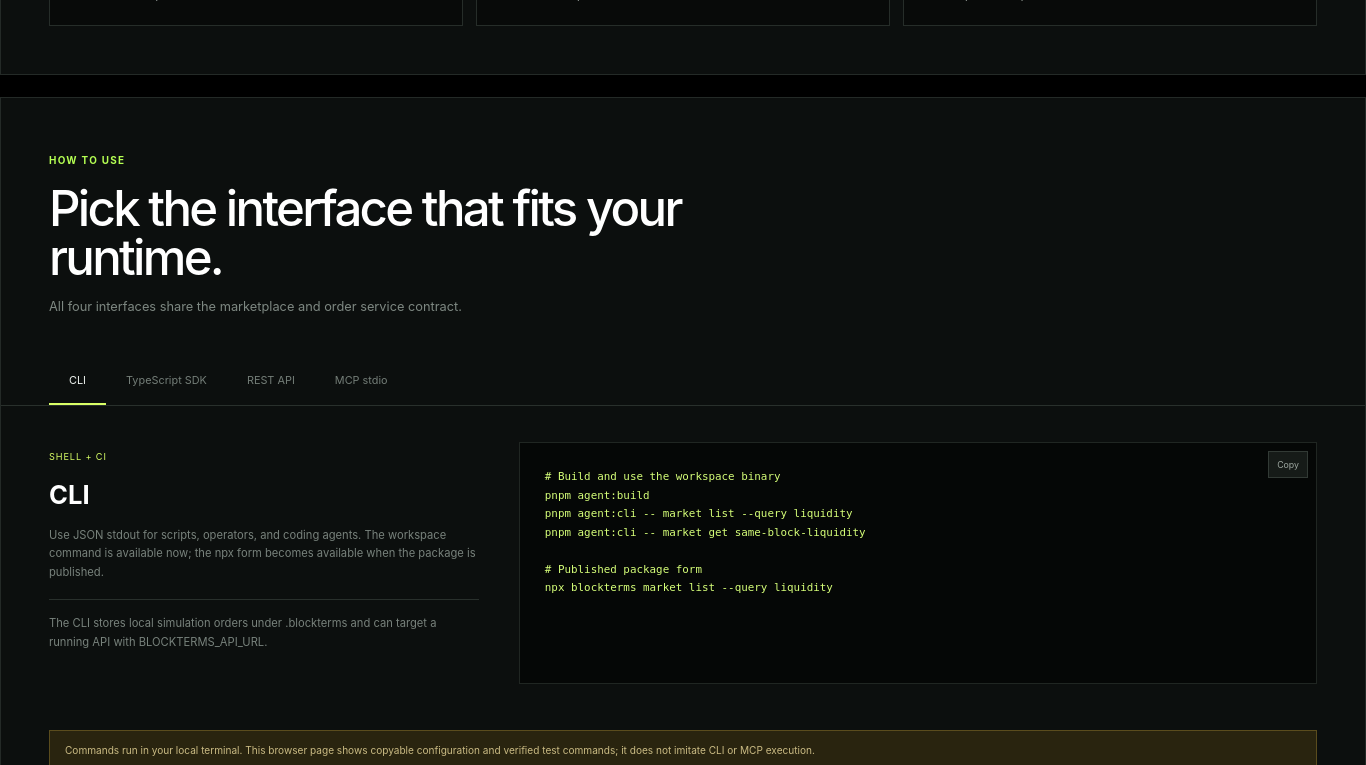
ConnectionGuide › switches interface recipes without pretending to run local processes
(page scrolled)
Click the tab "REST API" at point(271, 381), box [227,357,315,405]
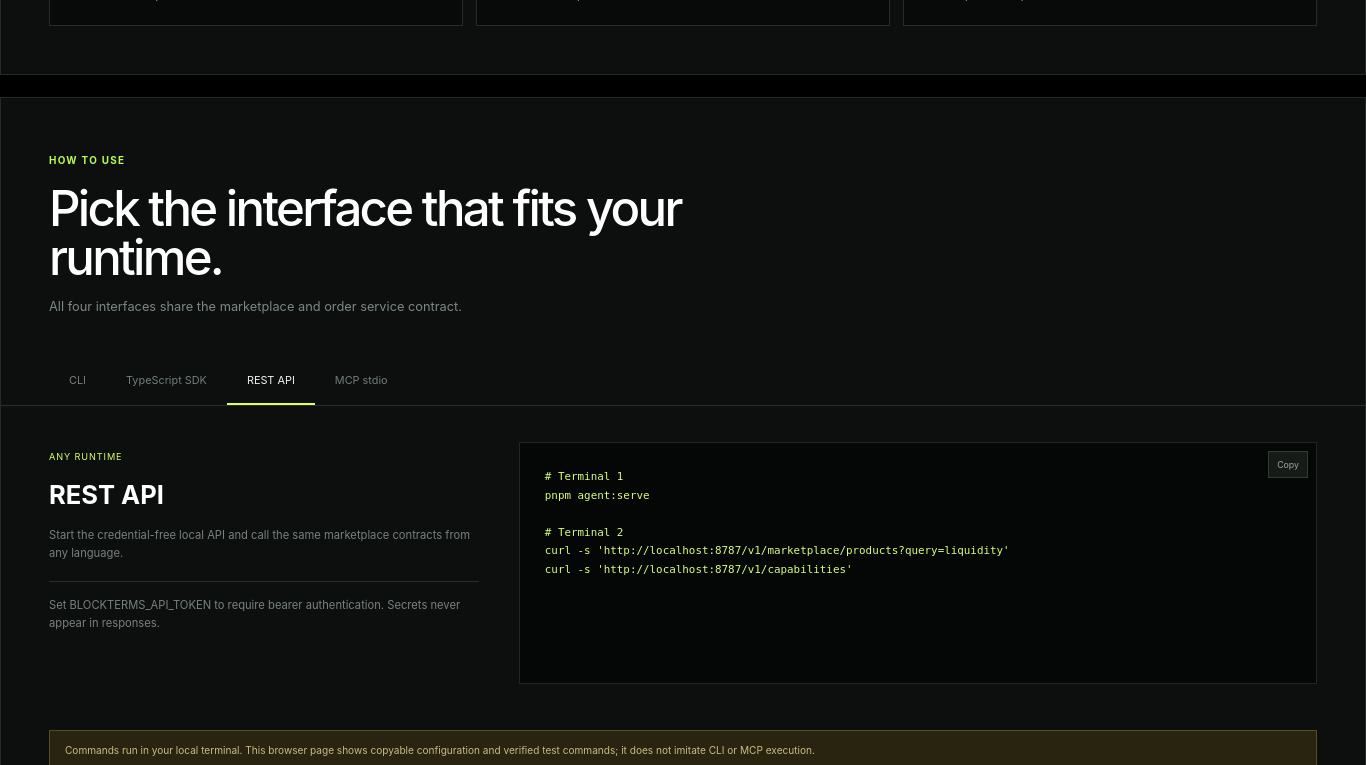
Expected: the panel shows "curl", [545,470,1010,576]
Expected: the panel shows "localhost:8787", [545,470,1010,576]
Click the tab "MCP stdio" at point(361, 381), box [315,357,408,405]
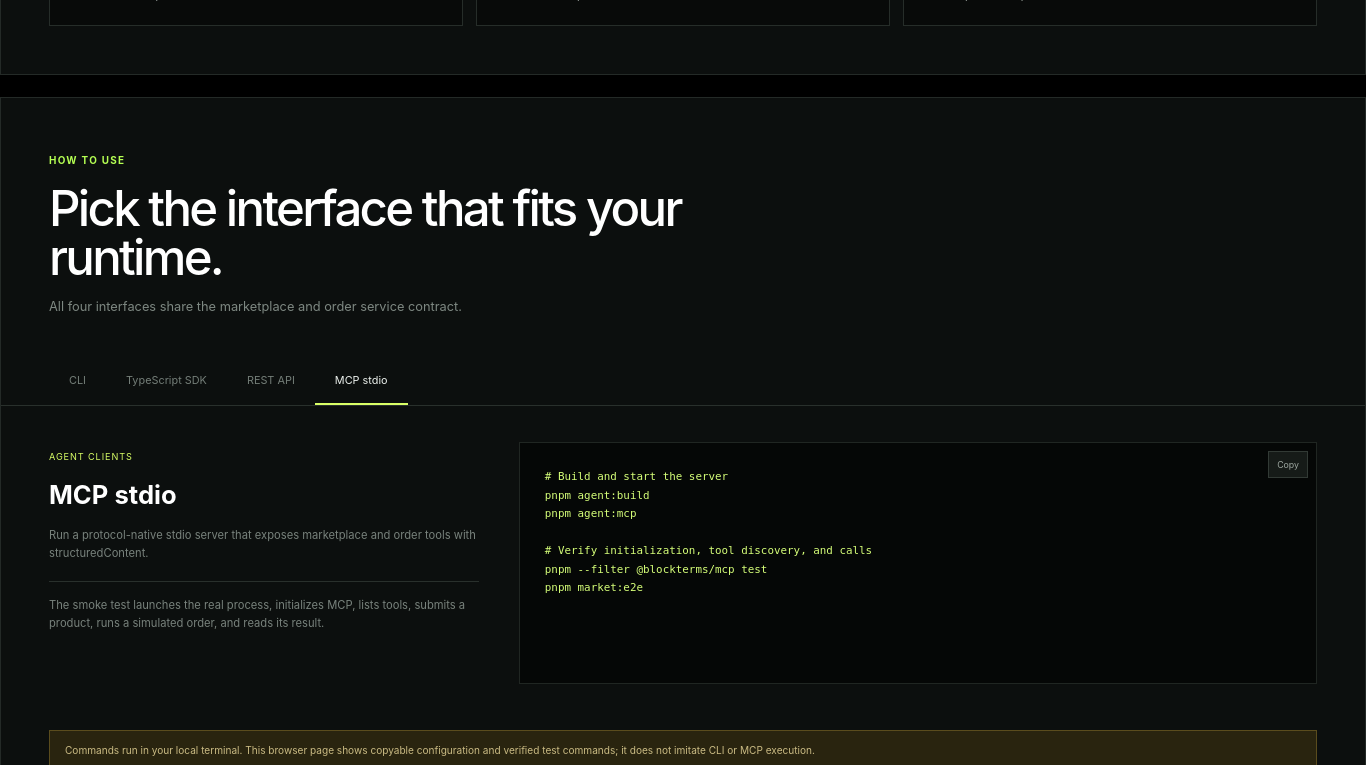
Expected: the text "Commands run in your local terminal" is shown, [65,744,815,756]
Expected: the panel shows "pnpm --filter @blockterms/mcp test", [545,470,872,594]
